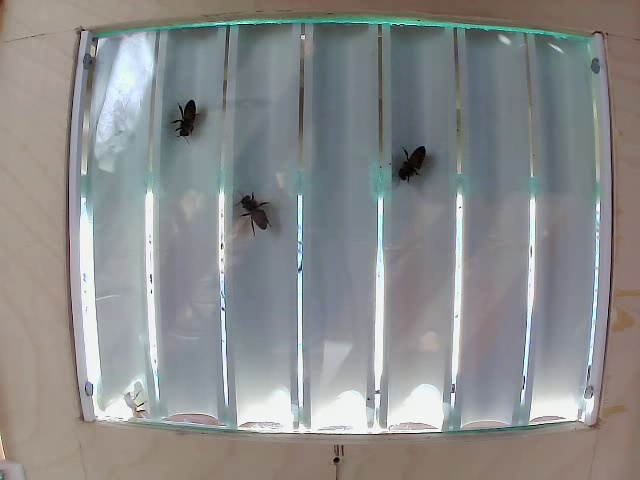bee: (228, 190, 280, 245), (165, 102, 208, 147), (398, 151, 433, 194)
